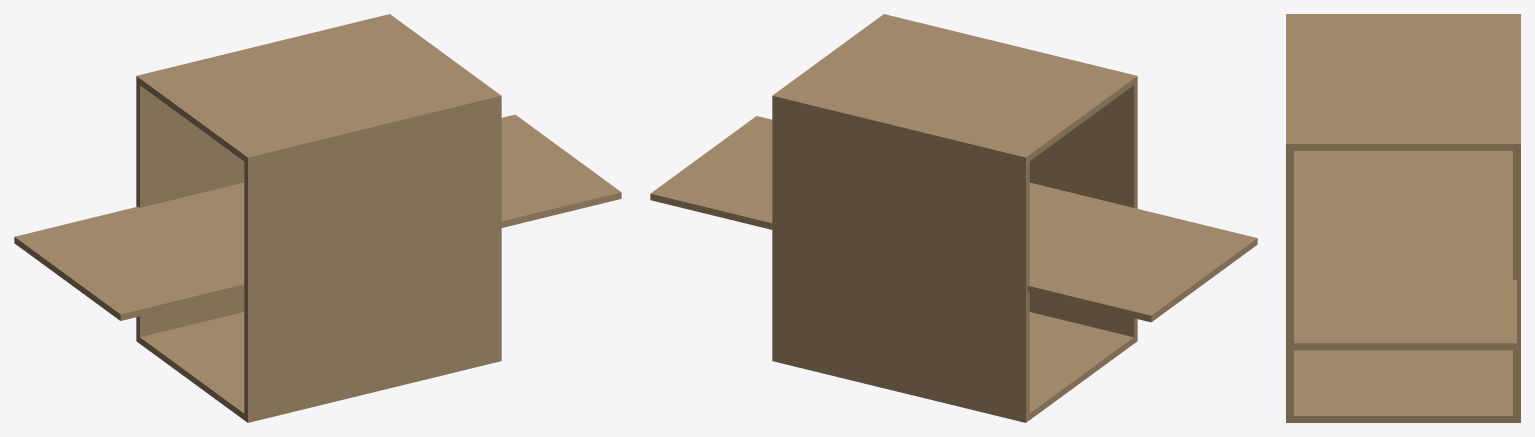
Rendered from wooden_crate_004_v1.glb.
3 renders of one model, left to right at view 1: azimuth 30°, elevation 25°; view 2: azimuth 150°, elevation 25°; view 3: azimuth 270°, elevation 25°, orthographic. The views are drawn at different scales.
Visible parts, largest first — view 1: top, side1, side4, base, side2, side3; view 2: base, side1, side4, top, side2, side3; view 3: side2, side1, side3, side4, top, base.
Part boxes in pixels (left/top/right/bottom): top: left=244, top=93, right=501, bottom=422; side1: left=140, top=15, right=497, bottom=160; side4: left=14, top=182, right=244, bottom=320; base: left=136, top=14, right=392, bottom=343; side2: left=501, top=114, right=621, bottom=227; side3: left=140, top=312, right=244, bottom=419; base: left=772, top=93, right=1029, bottom=422; side1: left=776, top=16, right=1133, bottom=160; side4: left=1027, top=182, right=1257, bottom=322; top: left=881, top=14, right=1137, bottom=343; side2: left=650, top=116, right=772, bottom=229; side3: left=1029, top=312, right=1133, bottom=419; side2: left=1294, top=213, right=1516, bottom=350; side1: left=1294, top=14, right=1516, bottom=150; side3: left=1294, top=350, right=1516, bottom=422; side4: left=1294, top=151, right=1512, bottom=213; top: left=1286, top=14, right=1293, bottom=422; base: left=1513, top=14, right=1520, bottom=422.
Bounding box in the file's own units: 158 × 80 × 61.
